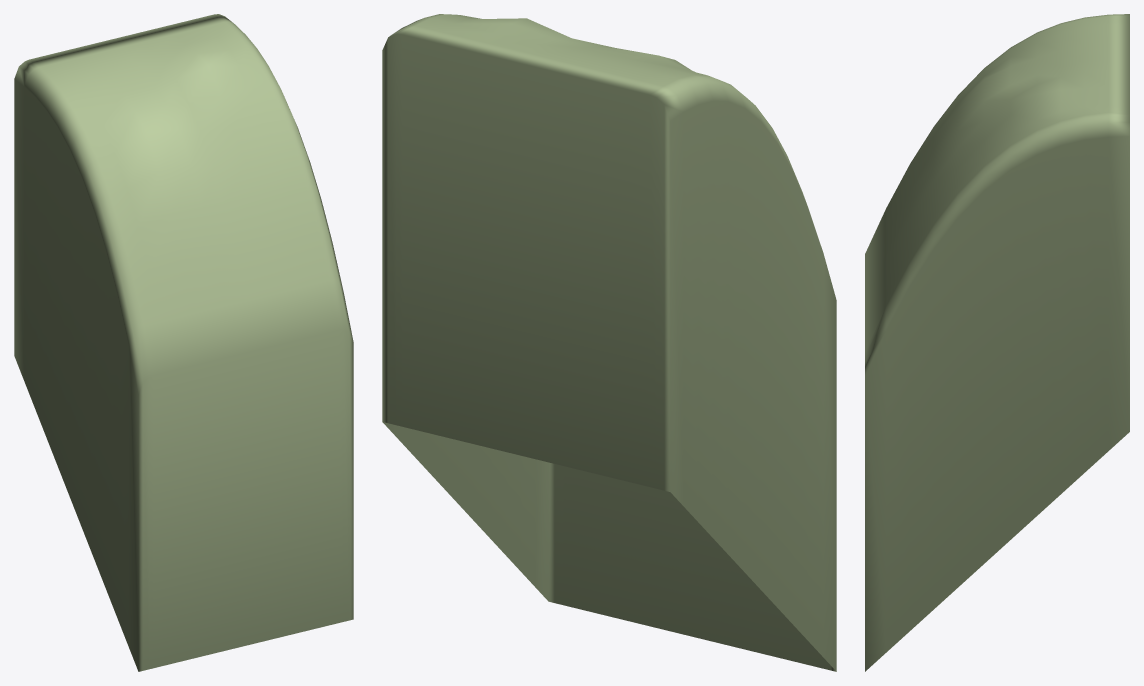
Rendered from ground-ramp-lr-31.glb.
3 views of the same model, side by side, from view 1: azimuth 30°, elevation 25°; view 2: azimuth 150°, elevation 25°; view 3: azimuth 270°, elevation 25° (orthographic). The views are drawn at different scales.
Visible parts, largest first — view 1: ground-ramp-lr-31; view 2: ground-ramp-lr-31; view 3: ground-ramp-lr-31.
Part boxes in pixels (x1,y1,x2,y2): ground-ramp-lr-31: (14, 14, 353, 671); ground-ramp-lr-31: (382, 14, 836, 671); ground-ramp-lr-31: (865, 14, 1129, 671).
Size of the model in its own units: 1 by 2.3 by 1.
